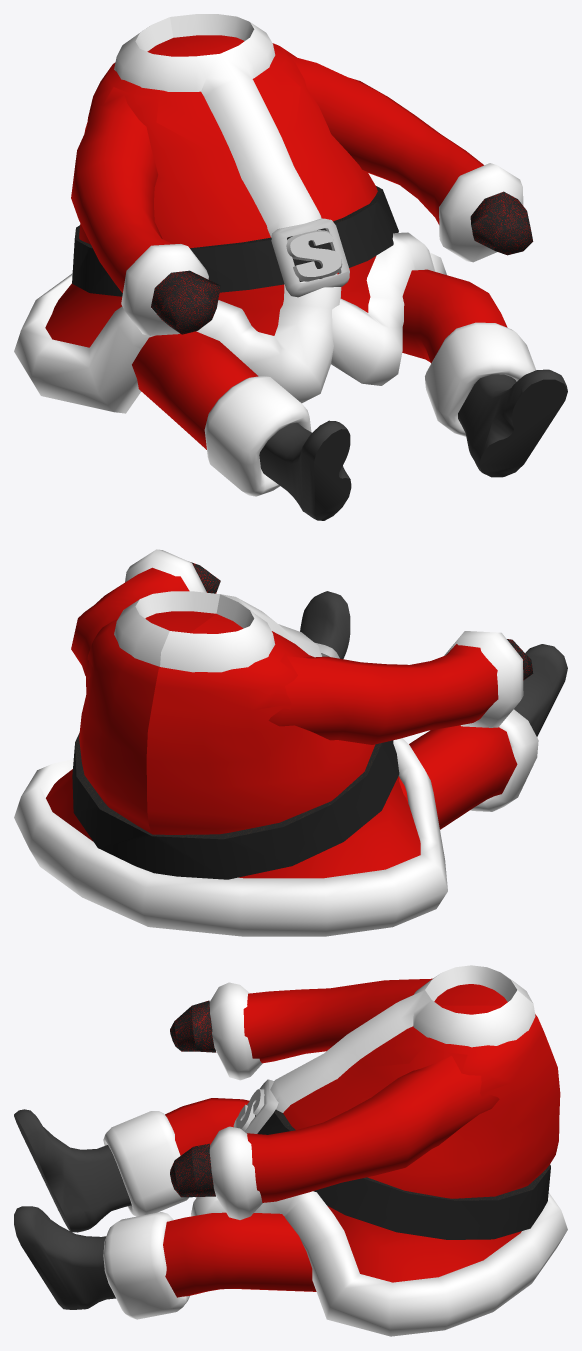
File: santa.dae
3 views of the same model, one above another, from view 1: azimuth 30°, elevation 25°; view 2: azimuth 150°, elevation 25°; view 3: azimuth 270°, elevation 25° (orthographic). The views are drawn at different scales.
Parts seen in each view (by area): view 1: Coat_Half (×2), Coat_Trim, Arm_Sleeve (×2), Collar, Leg_Boot (×2), Leg_Pants (×2), Leg_Cuff (×2), Belt_Strap, Arm_Cuff (×2), Arm_Mitten (×2), Belt_Buckle_Ring, Belt_Buckle_S; view 2: Coat_Half (×2), Coat_Trim, Arm_Sleeve (×2), Belt_Strap (×2), Collar, Leg_Pants, Leg_Boot (×2), Arm_Cuff (×2), Leg_Cuff; view 3: Coat_Half (×2), Arm_Sleeve (×2), Coat_Trim, Leg_Pants (×2), Leg_Boot (×2), Leg_Cuff (×2), Collar, Belt_Strap (×2), Arm_Cuff (×2), Arm_Mitten (×2), Belt_Buckle_Ring, Belt_Buckle_S.
Boxes of the visible parts, x1,y1,x2,y2 form: Coat_Half (×2): [45, 35, 377, 347]; Coat_Trim: [14, 232, 446, 413]; Arm_Sleeve (×2): [71, 55, 483, 292]; Collar: [114, 14, 321, 237]; Leg_Boot (×2): [259, 369, 567, 520]; Leg_Pants (×2): [132, 269, 507, 449]; Leg_Cuff (×2): [204, 322, 535, 496]; Belt_Strap: [72, 189, 398, 296]; Arm_Cuff (×2): [121, 163, 523, 335]; Arm_Mitten (×2): [151, 191, 533, 334]; Belt_Buckle_Ring: [271, 218, 349, 297]; Belt_Buckle_S: [286, 230, 342, 281]; Coat_Half (×2): [46, 611, 420, 878]; Coat_Trim: [14, 738, 447, 936]; Arm_Sleeve (×2): [71, 567, 498, 744]; Belt_Strap (×2): [72, 733, 399, 879]; Collar: [114, 591, 322, 672]; Leg_Pants: [399, 725, 517, 829]; Leg_Boot (×2): [300, 591, 567, 736]; Arm_Cuff (×2): [125, 549, 523, 727]; Leg_Cuff: [470, 709, 538, 811]; Coat_Half (×2): [283, 984, 560, 1282]; Arm_Sleeve (×2): [243, 978, 499, 1202]; Coat_Trim: [191, 1191, 567, 1336]; Leg_Pants (×2): [163, 1098, 316, 1297]; Leg_Boot (×2): [14, 1109, 131, 1309]; Leg_Cuff (×2): [103, 1111, 189, 1319]; Collar: [270, 965, 535, 1112]; Belt_Strap (×2): [255, 1109, 550, 1239]; Arm_Cuff (×2): [209, 982, 262, 1219]; Arm_Mitten (×2): [170, 1000, 216, 1197]; Belt_Buckle_Ring: [233, 1079, 278, 1133]; Belt_Buckle_S: [236, 1089, 264, 1131].
Size of the model in its own units: 47.12 by 58.96 by 32.8.
